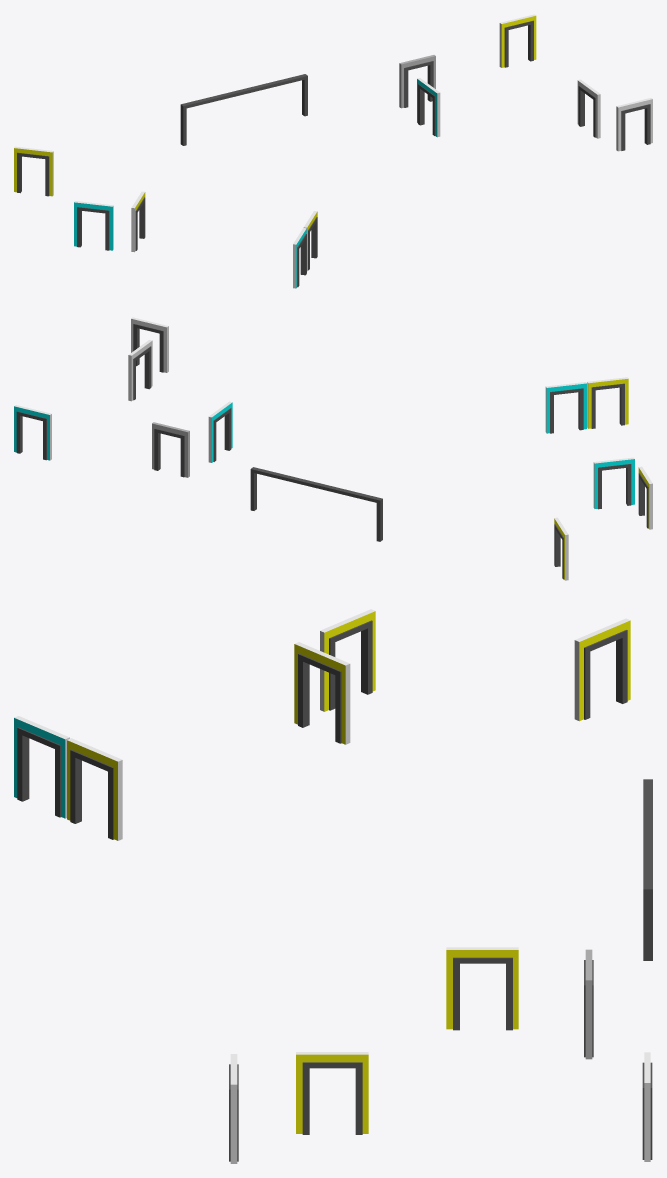
The model's file is NewestDoors.fbx.
3 views of the same model, one above another, from view 1: azimuth 30°, elevation 25°; view 2: azimuth 150°, elevation 25°; view 3: azimuth 270°, elevation 25° (orthographic). The views are drawn at different scales.
Visible parts, largest first — view 1: maskof (×7), maskof_yard, wall_for_maskof10, wall_for_maskof08, wall_for_maskof05, wall_for_maskof04, wall_for_maskof06, wall_for_maskof11, wall_for_maskof07; view 2: maskof (×9), maskof_yard, wall_for_maskof02, wall_for_maskof01, wall_for_maskof03, wall_for_maskof06, wall_for_maskof08, wall_for_maskof10, wall_for_maskof11, wall_for_maskof07; view 3: maskof (×7), maskof_yard, wall_for_maskof11, wall_for_maskof07, wall_for_maskof03, wall_for_maskof04, wall_for_maskof01, wall_for_maskof05, wall_for_maskof02, wall_for_maskof06, wall_for_maskof08.
Boxes of the visible parts, x1,y1,x2,y2 form: maskof (×7): (17,20,650,250); maskof_yard: (180,74,307,145); wall_for_maskof10: (499,14,536,67); wall_for_maskof08: (616,98,652,151); wall_for_maskof05: (74,201,113,250); wall_for_maskof04: (14,146,53,196); wall_for_maskof06: (399,55,435,108); wall_for_maskof11: (577,79,600,138); wall_for_maskof07: (417,78,440,137); maskof (×9): (16,324,648,528); maskof_yard: (250,467,382,541); wall_for_maskof02: (587,377,628,428); wall_for_maskof01: (545,382,586,433); wall_for_maskof03: (593,457,634,508); wall_for_maskof06: (152,422,189,477); wall_for_maskof08: (131,317,168,372); wall_for_maskof10: (14,405,51,460); wall_for_maskof11: (128,340,152,401); wall_for_maskof07: (208,401,232,462); maskof (×7): (17,620,627,1134); maskof_yard: (643,779,652,960); wall_for_maskof11: (296,1052,368,1133); wall_for_maskof07: (446,947,518,1029); wall_for_maskof03: (294,642,350,744); wall_for_maskof04: (574,618,630,721); wall_for_maskof01: (67,738,122,840); wall_for_maskof05: (320,609,375,711); wall_for_maskof02: (14,716,69,818); wall_for_maskof06: (585,949,592,1059); wall_for_maskof08: (230,1054,237,1163).
Size of the model in its own units: 4112 by 321 by 2335.
